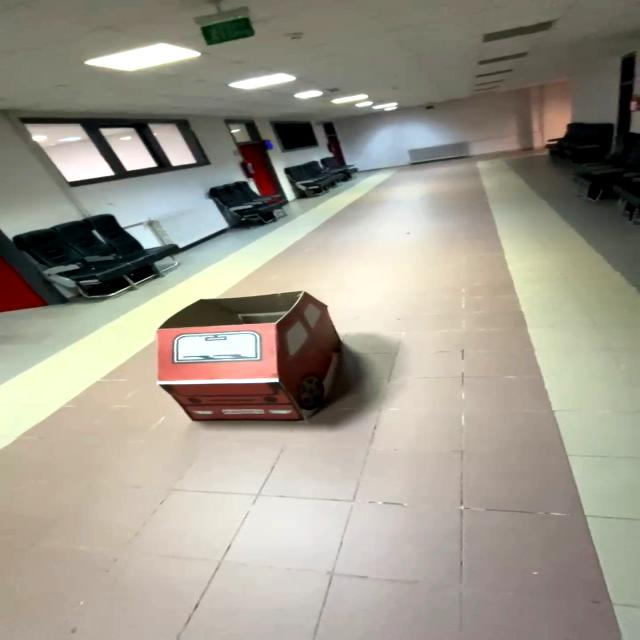red_car: (140, 272, 405, 451)
